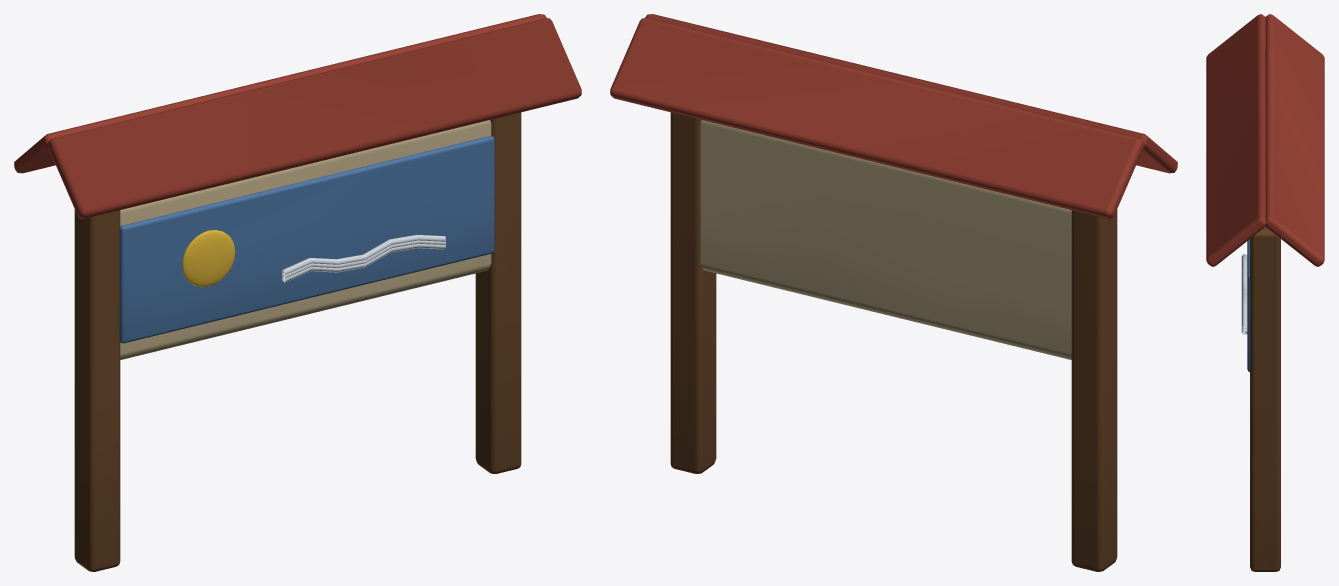
File: signboard.glb
The picture shows the model from 3 angles, left to right: view 1: azimuth 30°, elevation 25°; view 2: azimuth 150°, elevation 25°; view 3: azimuth 270°, elevation 25°; orthographic projection. The views are drawn at different scales.
Parts seen in each view (by area): view 1: signboard_main; view 2: signboard_main; view 3: signboard_main.
Boxes of the visible parts, x1,y1,x2,y2 form: signboard_main: (14,14,581,571); signboard_main: (610,14,1177,571); signboard_main: (1206,14,1324,571).
Size of the model in its own units: 1.88 by 1.57 by 0.4564.
